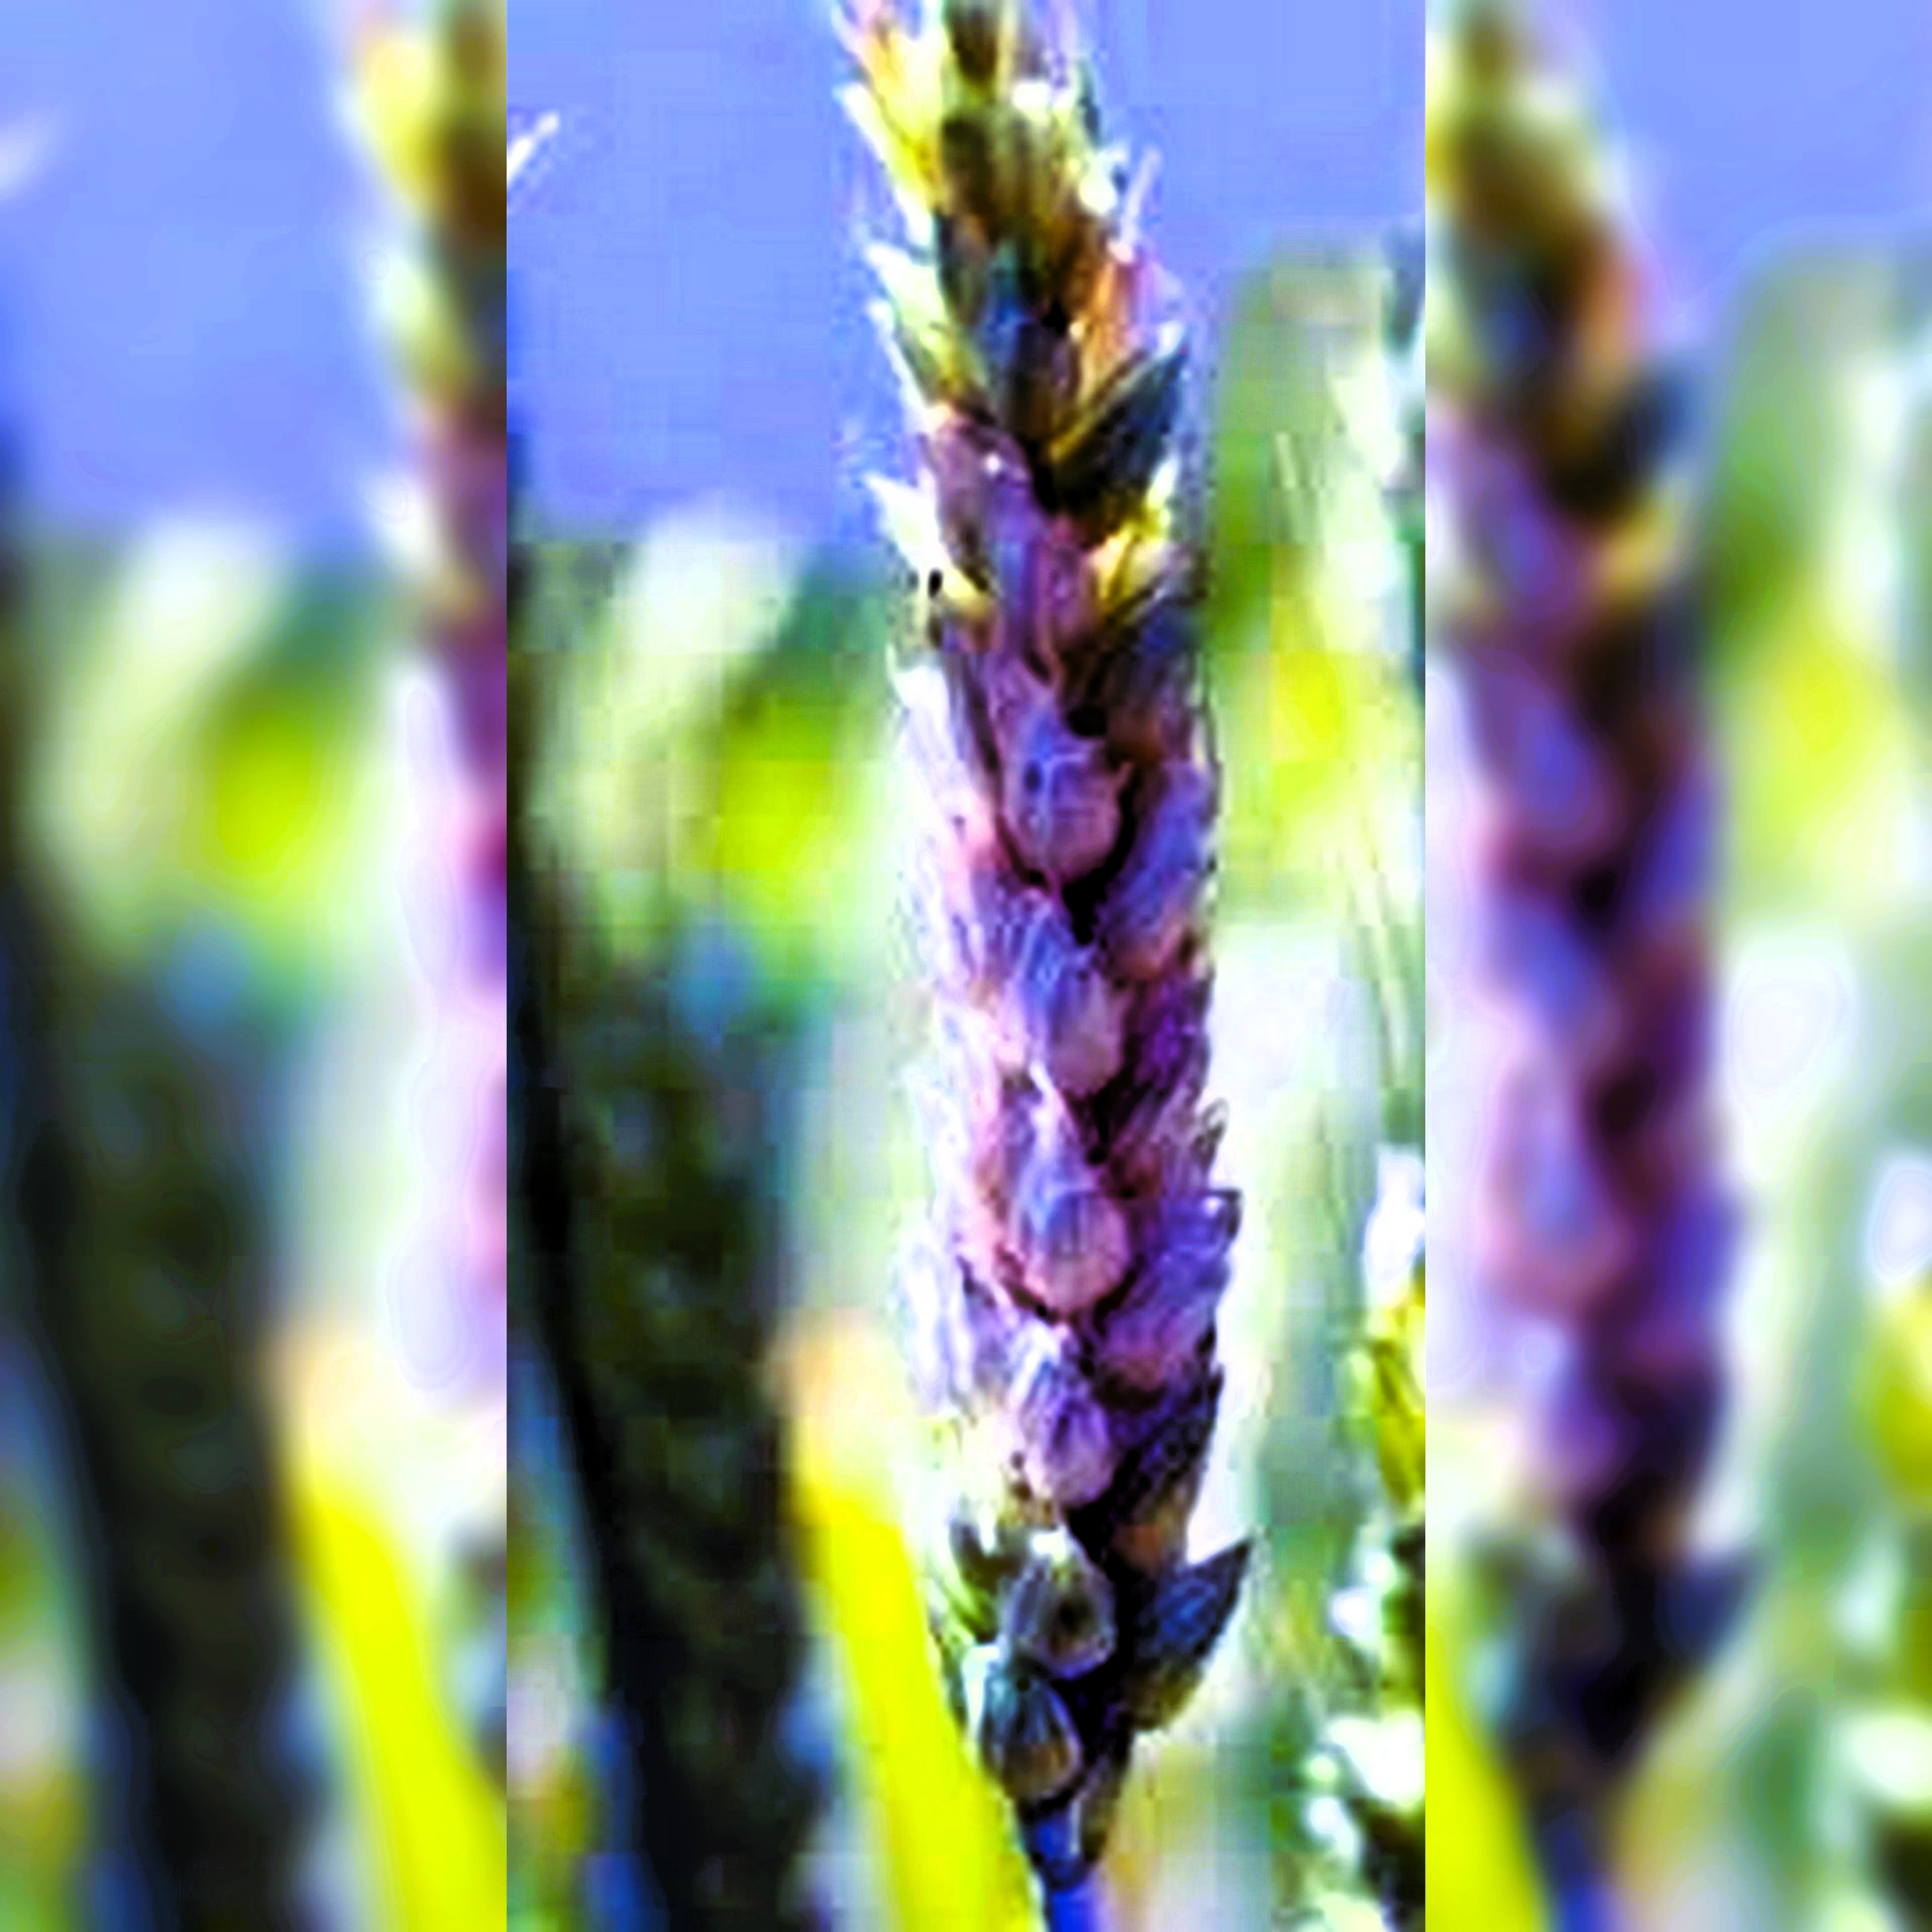Wheat scab: (828, 119, 1311, 1803)
